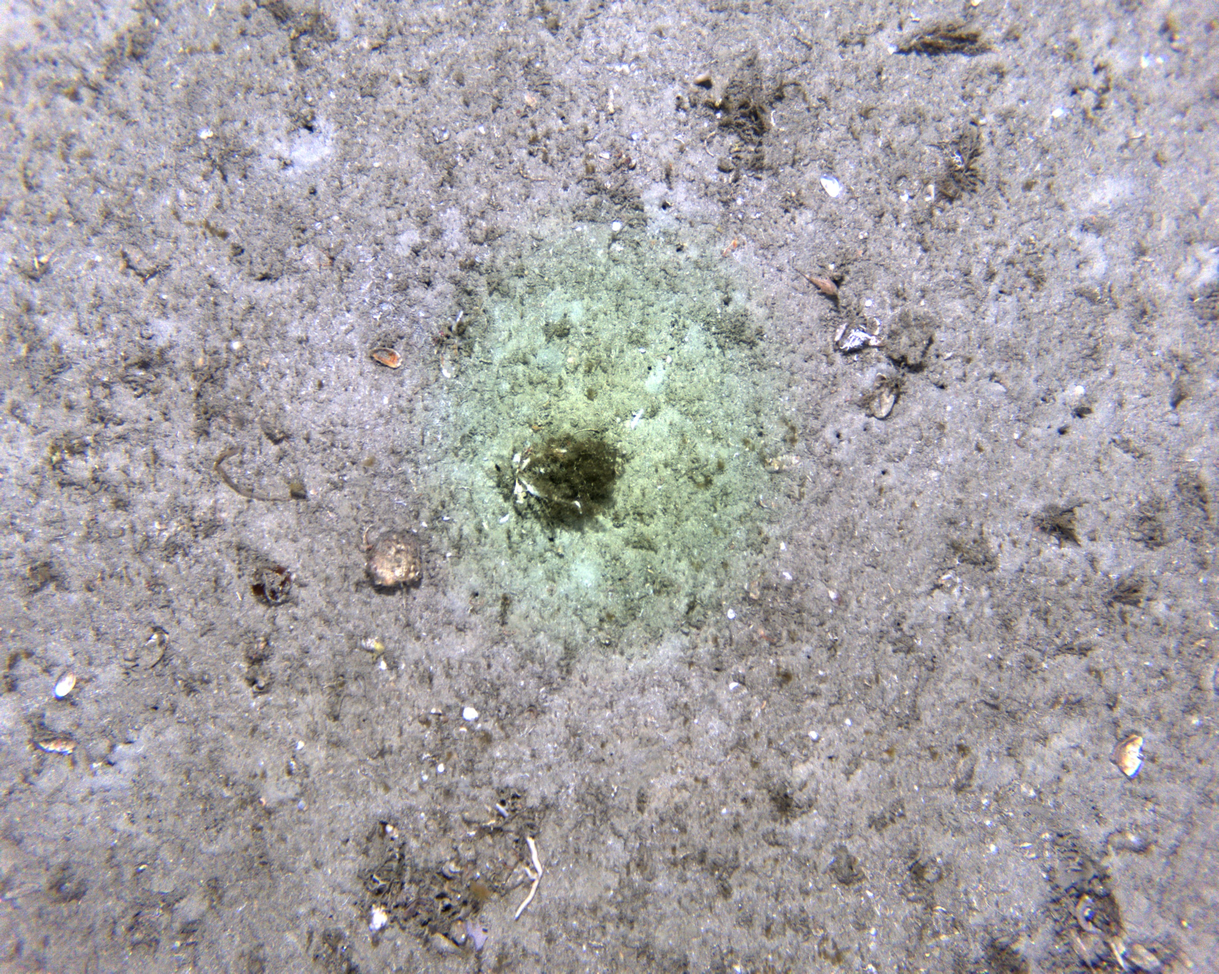Brachionichthyidae: (790, 262, 842, 298)
